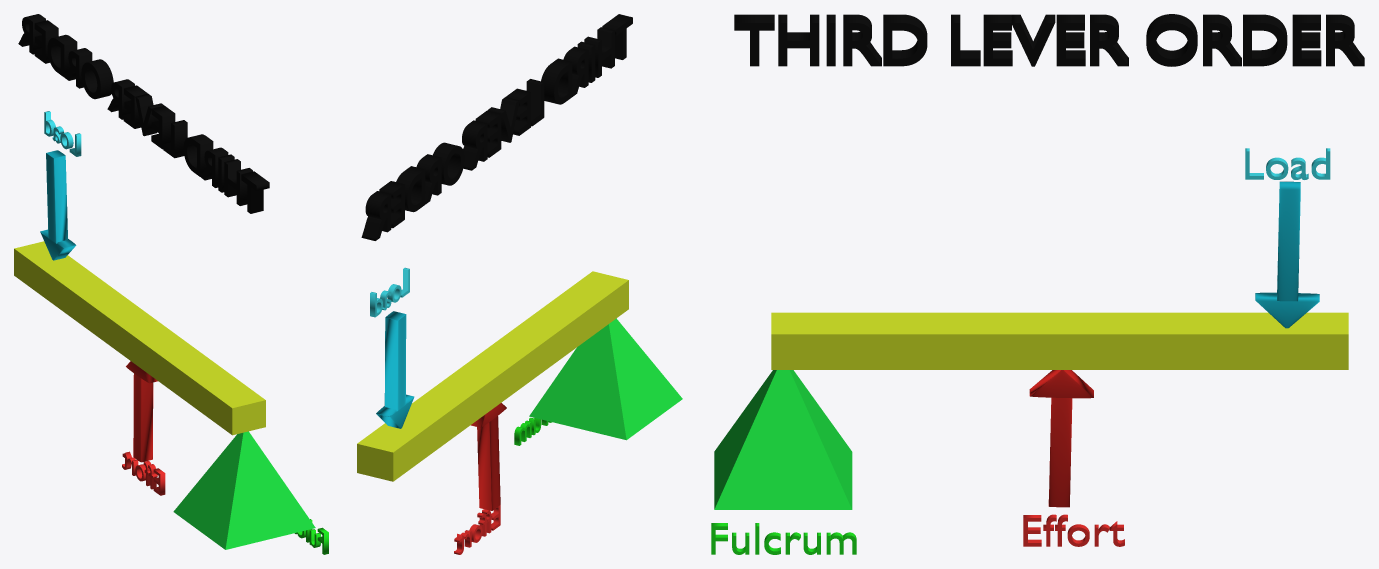
File: Third Lever Order.gltf
3 views of the same model, side by side, from view 1: azimuth 30°, elevation 25°; view 2: azimuth 150°, elevation 25°; view 3: azimuth 270°, elevation 25° (orthographic). The views are drawn at different scales.
Visible parts, largest first — view 1: Cube.001, Text.003, Cube, Cylinder.001, Cylinder.008, Text, Text.001, Text.002; view 2: Cube.001, Text.003, Cube, Cylinder.001, Cylinder.008, Text, Text.001, Text.002; view 3: Cube.001, Text.003, Cube, Cylinder.001, Cylinder.008, Text.002, Text, Text.001.
Part boxes in pixels (left/top/right/bottom): Cube.001: left=14, top=241, right=265, bottom=435; Text.003: left=18, top=14, right=269, bottom=213; Cube: left=173, top=431, right=315, bottom=549; Cylinder.001: left=40, top=150, right=76, bottom=260; Cylinder.008: left=126, top=361, right=157, bottom=462; Text: left=122, top=451, right=165, bottom=495; Text.001: left=44, top=111, right=81, bottom=156; Text.002: left=294, top=519, right=328, bottom=554; Cube.001: left=357, top=271, right=628, bottom=481; Text.003: left=361, top=14, right=632, bottom=240; Cube: left=529, top=318, right=682, bottom=440; Cylinder.001: left=376, top=311, right=414, bottom=428; Cylinder.008: left=471, top=403, right=506, bottom=510; Text: left=454, top=505, right=500, bottom=554; Text.001: left=370, top=267, right=409, bottom=317; Text.002: left=514, top=417, right=551, bottom=445; Cube.001: left=771, top=312, right=1348, bottom=369; Text.003: left=734, top=14, right=1364, bottom=66; Cube: left=714, top=370, right=852, bottom=509; Cylinder.001: left=1255, top=181, right=1319, bottom=328; Cylinder.008: left=1029, top=370, right=1093, bottom=507; Text.002: left=711, top=523, right=856, bottom=554; Text: left=1023, top=514, right=1124, bottom=546; Text.001: left=1245, top=148, right=1330, bottom=179.
Bounding box in the file's own units: 3.4 × 12.5 × 14.2.
